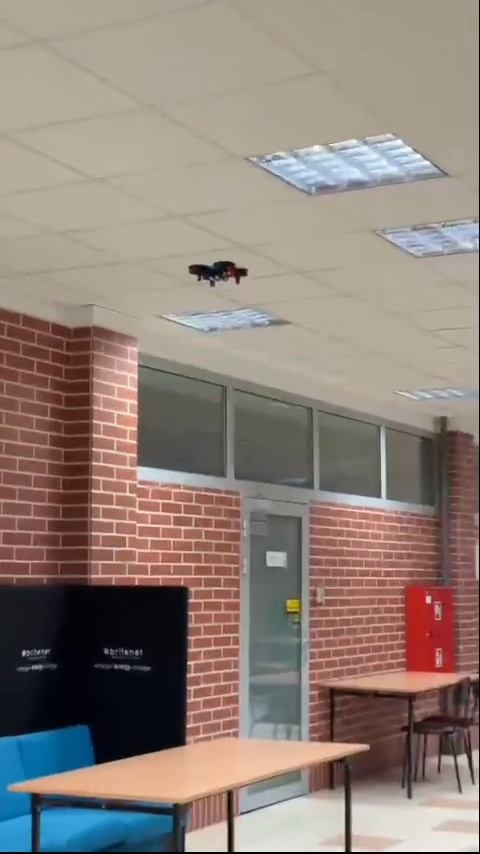drone: (187, 257, 251, 283)
